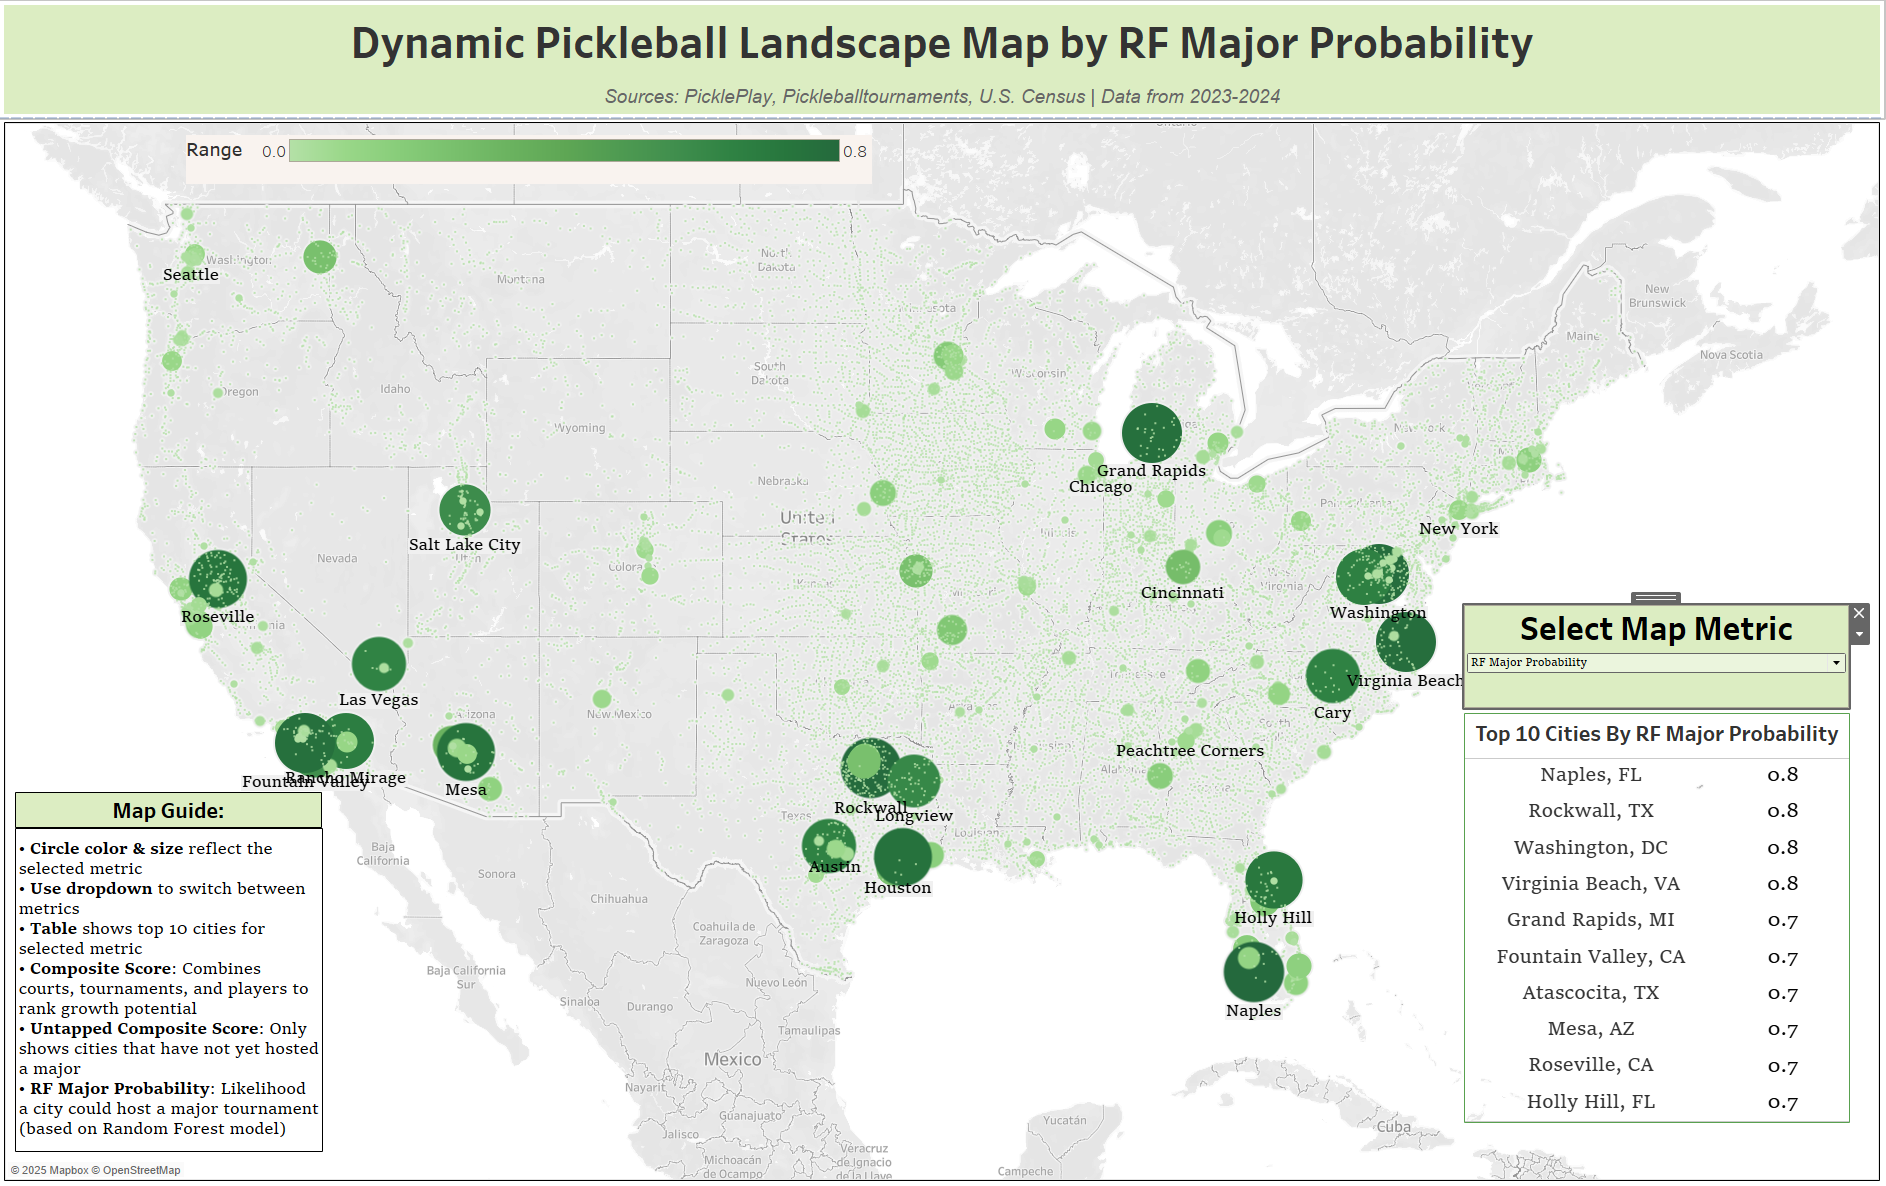

This screenshot's page, from the dashboard's own definition file:
{"tool":"tableau","page":{"name":"Pickleball Dynamic Overview Map","canvas":[1900,1200],"ordinal":0},"visuals":[{"type":"text","box":[8,8,1884,116.9]},{"type":"worksheet","title":"Dynamic Pickleball Landscape Map","mark":"Automatic","box":[8,124.9,1884,1067.1]},{"type":"legend","title":"Dynamic Pickleball Landscape Map","param":"[federated.1uroyys0okk61s14kenbh1t98qae].[avg:Calculation_2274880825338425361:qk","box":[194,141.8,686,49.1]},{"type":"parameter","param":"[Parameters].[Parameter 2]","box":[1472,612,385,103]},{"type":"worksheet","title":"Top 10","mark":"Automatic","rows":["city_state"],"box":[1472,720,386,410]},{"type":"text","box":[23,799,307,36]},{"type":"text","box":[23,835,308,324]}]}

Visuals, with their boxes in screenshot pixels (x1, y1, x2, y2), scaled from the page's 1900x1200 canvas onto the 1886x1186 screenshot:
text: {"x1": 8, "y1": 8, "x2": 1878, "y2": 123}
"Dynamic Pickleball Landscape Map" worksheet: {"x1": 8, "y1": 123, "x2": 1878, "y2": 1178}
"Dynamic Pickleball Landscape Map" legend: {"x1": 193, "y1": 140, "x2": 874, "y2": 189}
parameter: {"x1": 1461, "y1": 605, "x2": 1843, "y2": 707}
"Top 10" worksheet: {"x1": 1461, "y1": 712, "x2": 1844, "y2": 1117}
text: {"x1": 23, "y1": 790, "x2": 328, "y2": 825}
text: {"x1": 23, "y1": 825, "x2": 329, "y2": 1145}
